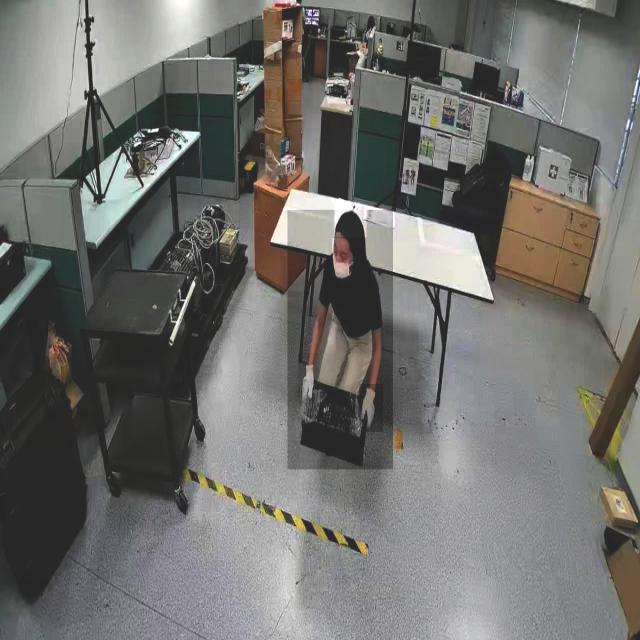face_mask: (332, 238, 356, 286)
hand_glove: (359, 384, 383, 433), (297, 353, 319, 405)
head_nohelmet: (334, 210, 366, 238)
person: (287, 210, 393, 470)
